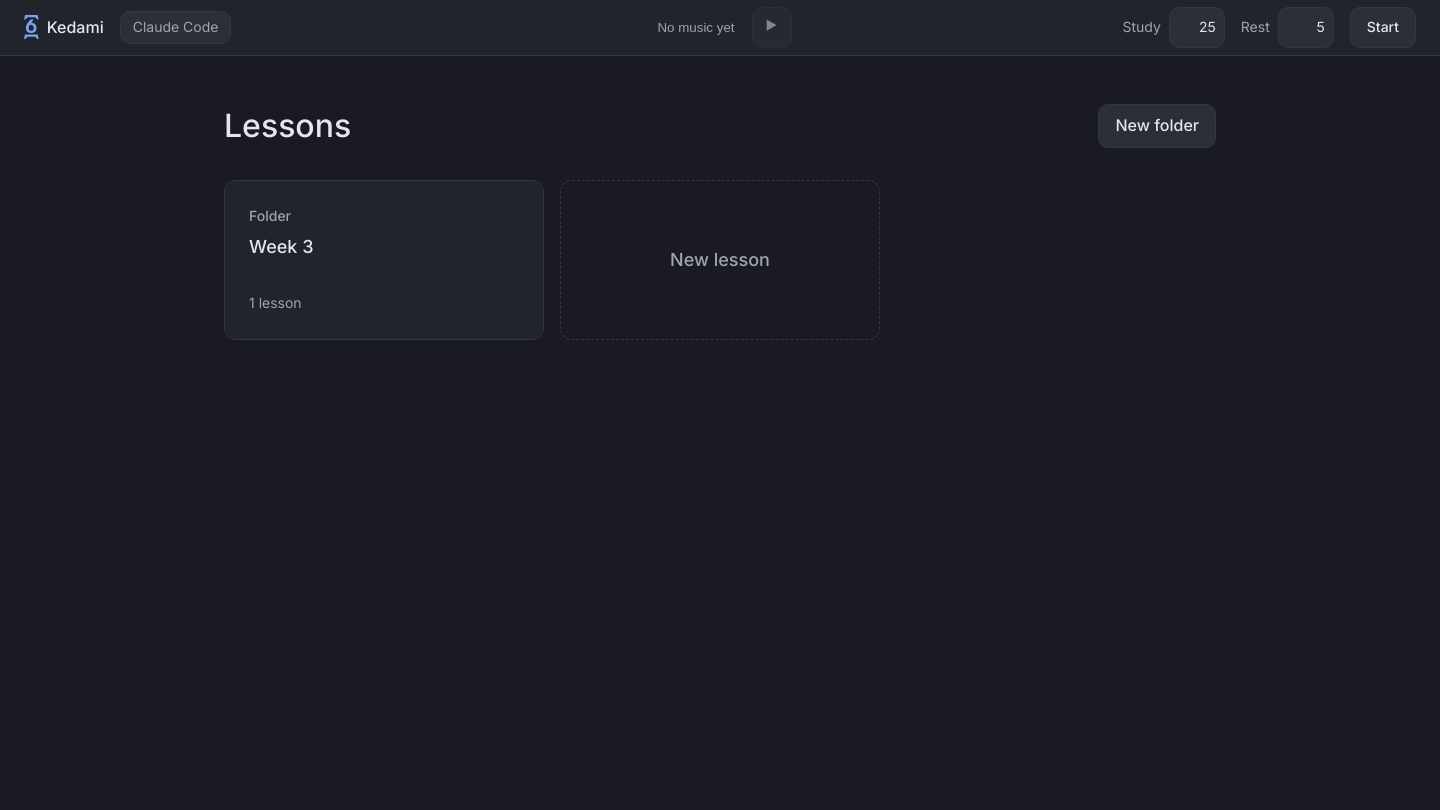
it: Terminal panel › stays open when Kedami is clicked
This screenshot has width=1440, height=810.
Click the button with class "tile" showing "Folder Week 3 1 lesson".
click(270, 215)  # box 224,180 -> 544,340
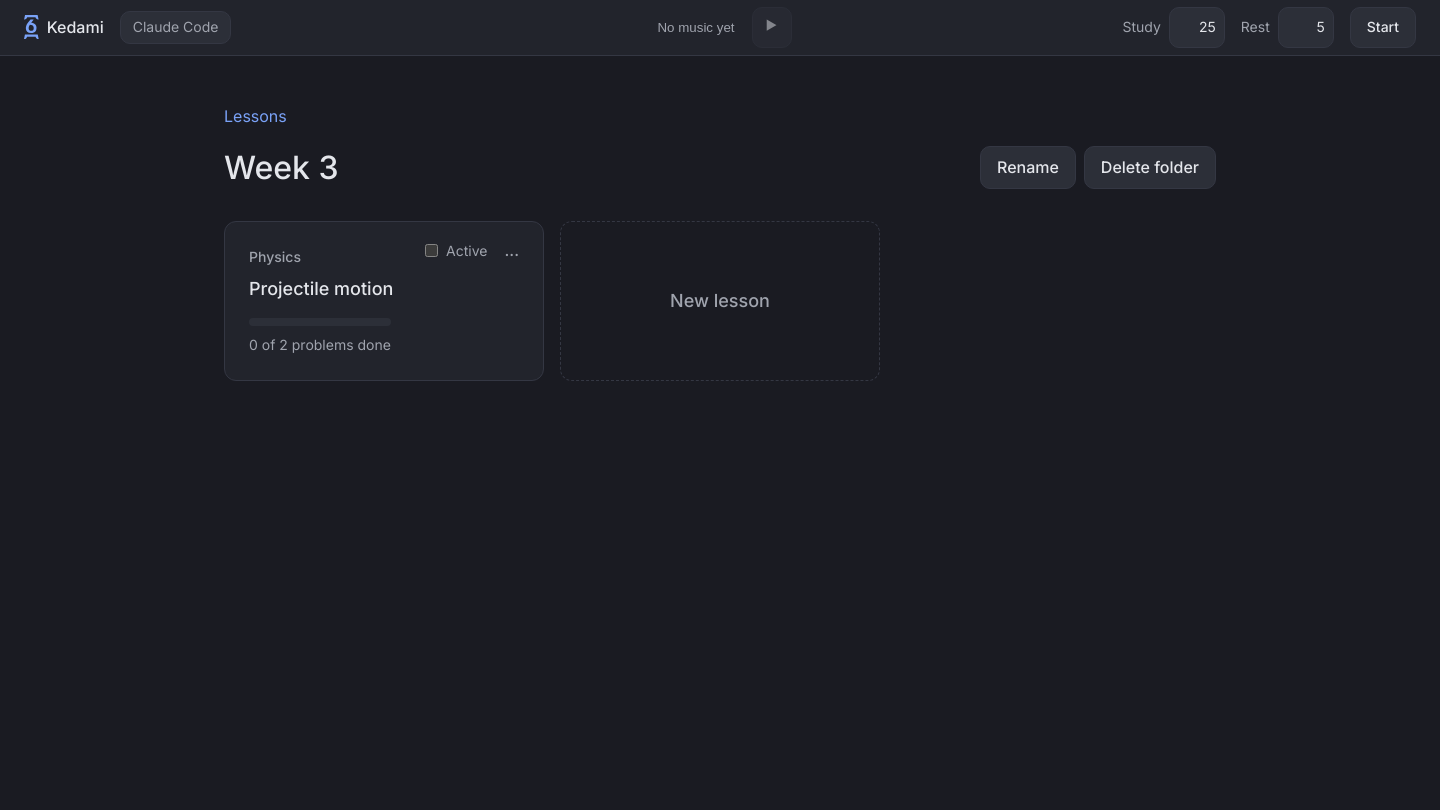
Click the button "Claude Code".
click(176, 28)  # box 120,11 -> 232,44
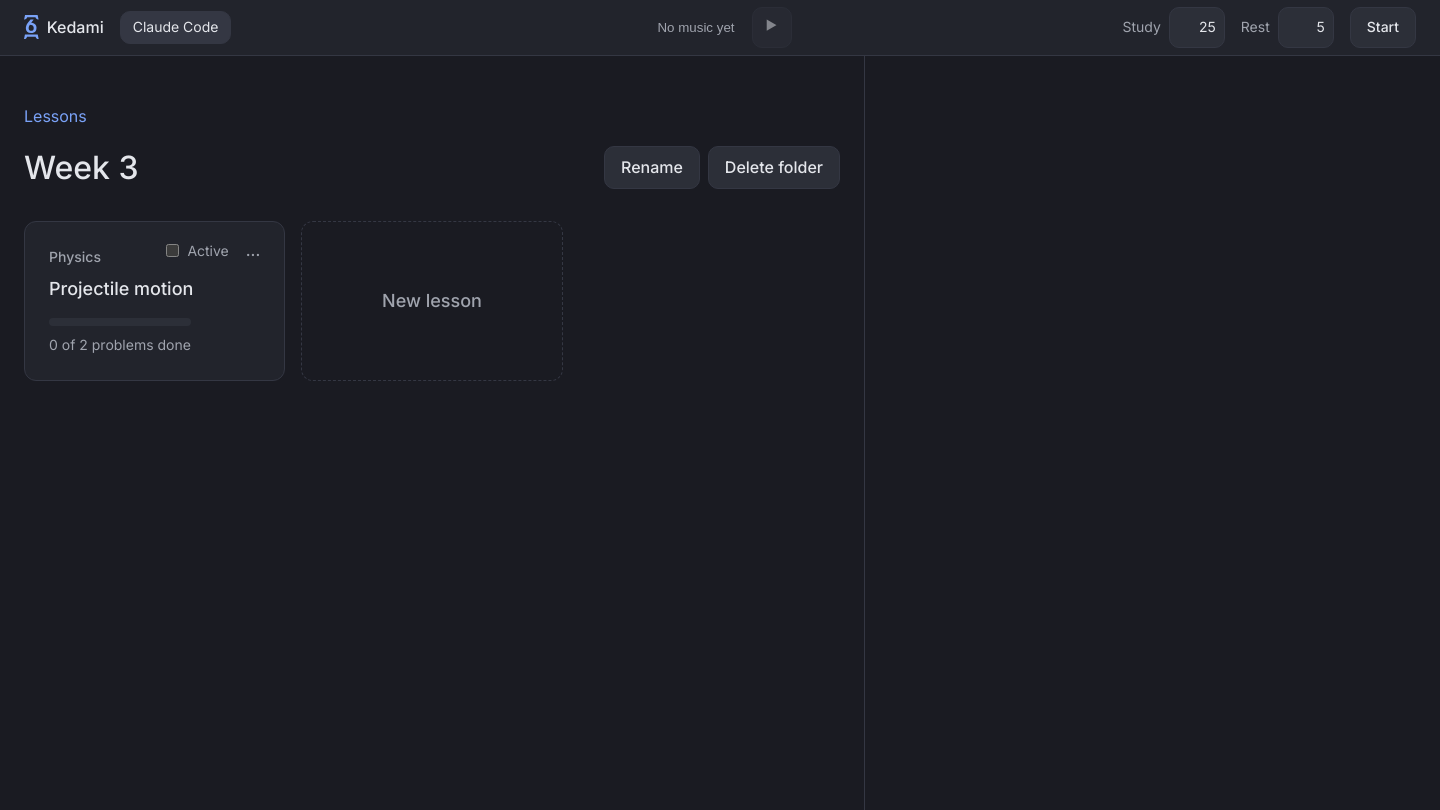
Click the button "Kedami".
click(64, 28)  # box 24,15 -> 104,40
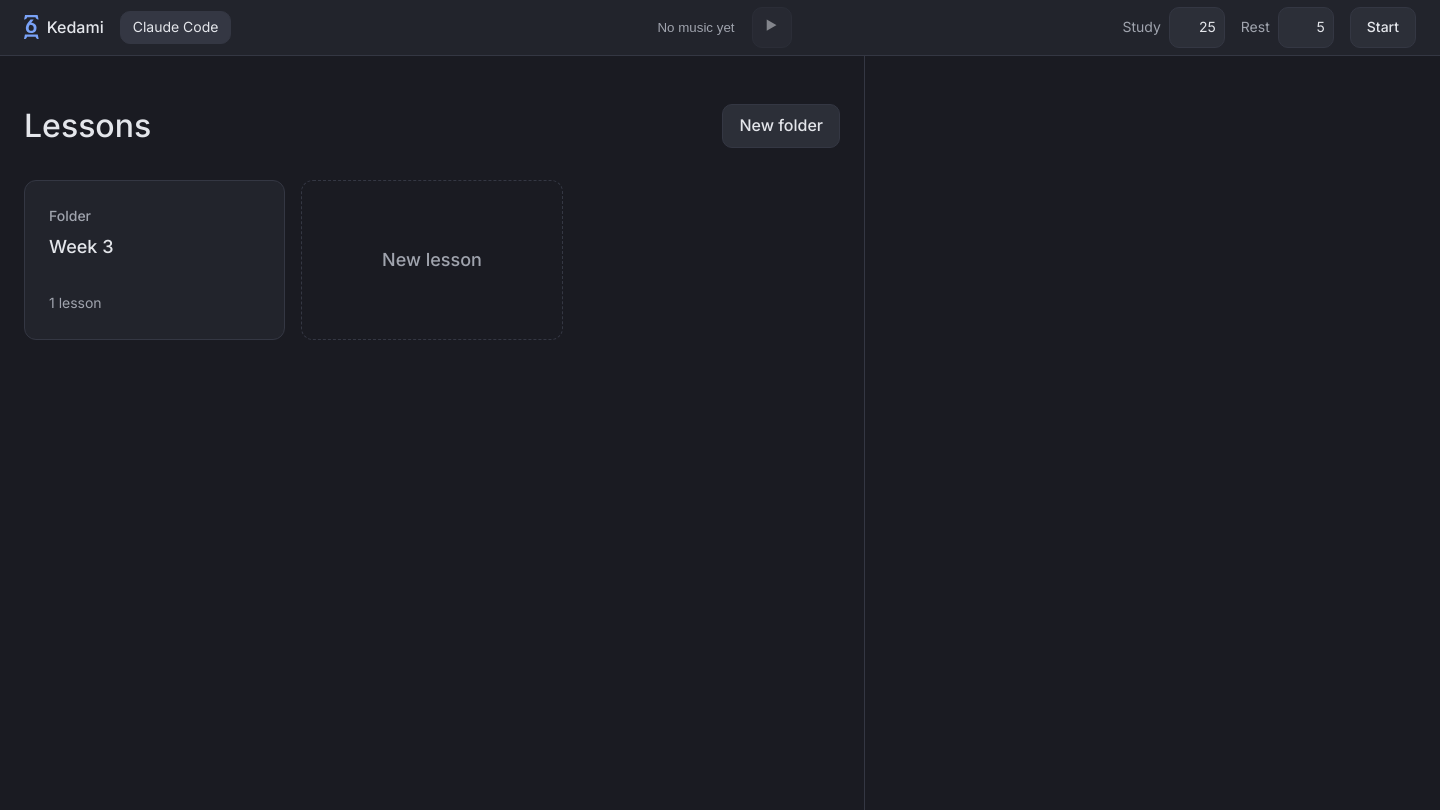
Expected: the element with class "terminal-panel" is shown, 864,56 -> 1439,809
Expected: the heading "Lessons" is shown, 24,105 -> 151,147
